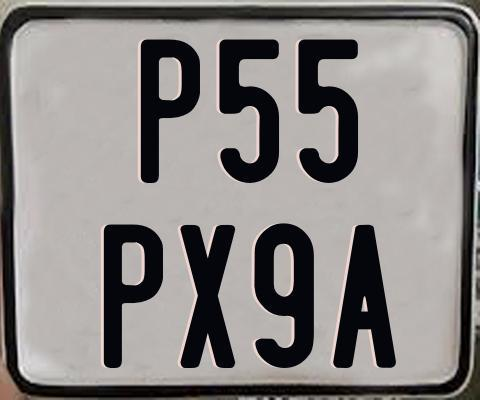5: (219, 39, 285, 185), (295, 36, 360, 182)
9: (253, 222, 317, 373)
A: (331, 223, 394, 369)
P: (103, 222, 168, 366), (140, 36, 201, 181)
X: (178, 223, 236, 370)
